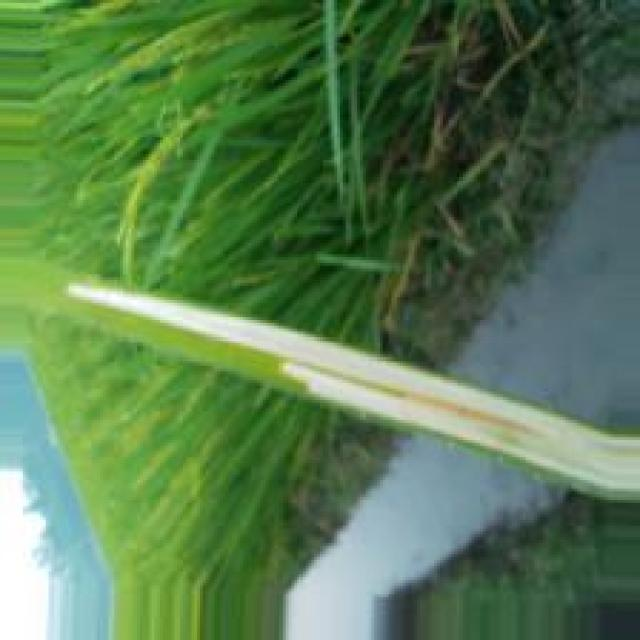Rice_Hispa: (63, 281, 640, 497)
